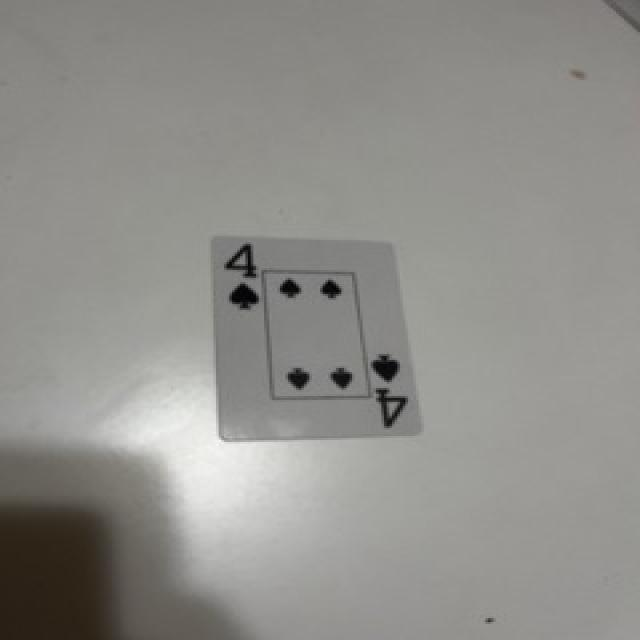4 of spades: (213, 238, 422, 438)
